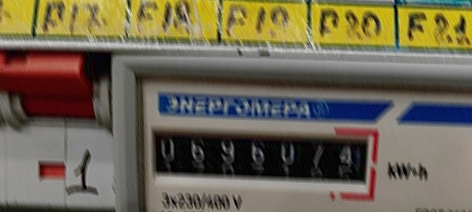0: (154, 134, 174, 159), (276, 138, 293, 164)
4: (334, 141, 351, 163)
5: (334, 166, 351, 181)
6: (247, 137, 265, 163), (186, 136, 204, 160)
7: (306, 140, 324, 166)
9: (216, 136, 233, 163)
screen: (137, 114, 380, 195)
